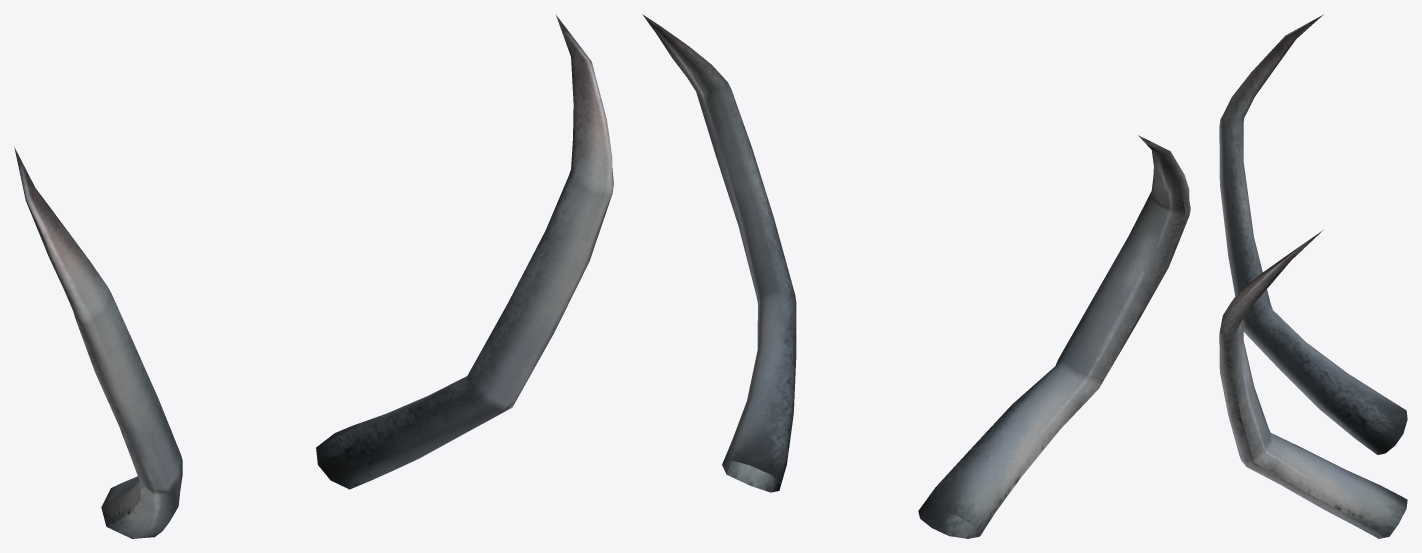
The model's file is headArmorCiladea.fbx.
The picture shows the model from 3 angles, left to right: view 1: azimuth 30°, elevation 25°; view 2: azimuth 150°, elevation 25°; view 3: azimuth 270°, elevation 25°; orthographic projection. The views are drawn at different scales.
Parts seen in each view (by area): view 1: headArmorCiladeaRGT, headArmorCiladeaLFT; view 2: headArmorCiladeaLFT, headArmorCiladeaRGT; view 3: headArmorCiladeaLFT, headArmorCiladeaRGT.
Boxes of the visible parts, x1,y1,x2,y2 form: headArmorCiladeaRGT: (316, 15, 613, 489); headArmorCiladeaLFT: (14, 147, 182, 538); headArmorCiladeaLFT: (918, 135, 1190, 538); headArmorCiladeaRGT: (642, 14, 796, 492); headArmorCiladeaLFT: (1219, 14, 1407, 454); headArmorCiladeaRGT: (1219, 230, 1407, 538).
Size of the model in its own units: 1.04 by 0.8054 by 0.3691.
